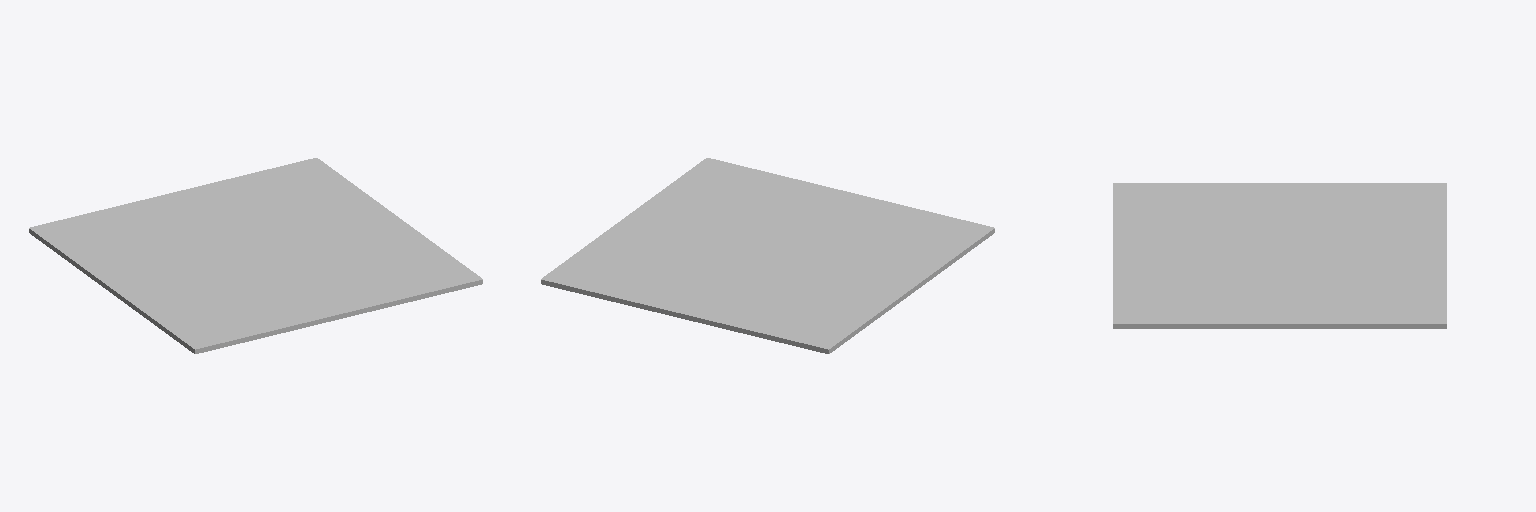
Rendered from tile suelo interior.obj.
3 renders of one model, left to right at view 1: azimuth 30°, elevation 25°; view 2: azimuth 150°, elevation 25°; view 3: azimuth 270°, elevation 25°, orthographic.
Visible parts, largest first — view 1: object 1; view 2: object 1; view 3: object 1.
Part boxes in pixels (x1,y1,x2,y2): object 1: (29,158,482,353); object 1: (541,158,994,353); object 1: (1113,183,1446,328).
Size of the model in its own units: 12.4 by 0.2 by 12.4.